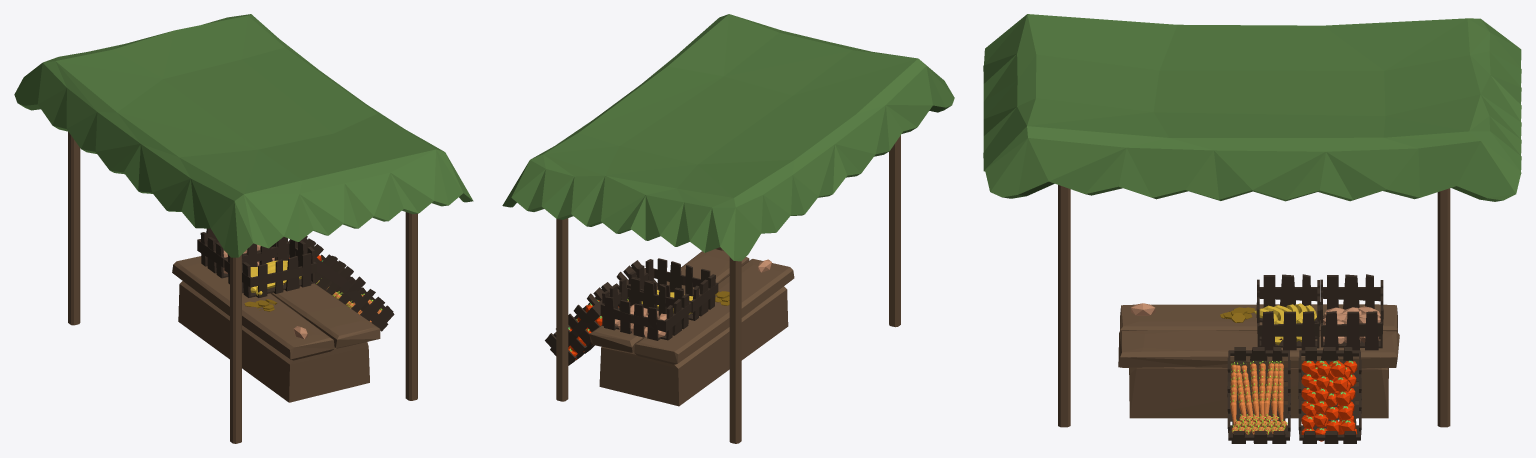
The model's file is produce.glb.
3 renders of one model, left to right at view 1: azimuth 30°, elevation 25°; view 2: azimuth 150°, elevation 25°; view 3: azimuth 270°, elevation 25°, orthographic. The views are drawn at different scales.
Parts seen in each view (by area): view 1: fvShop, Crate.003, Crate, Crate.002; view 2: fvShop, Crate.002, Crate.003, Crate.001; view 3: fvShop, Crate.002, Crate.003, Crate, Crate.001, tom.008, tom.009, tom.007, tom.006.
Boxes of the visible parts, left/top/right/bottom form: fvShop: left=14, top=14, right=473, bottom=443; Crate.003: left=224, top=237, right=316, bottom=297; Crate: left=315, top=255, right=394, bottom=331; Crate.002: left=197, top=228, right=288, bottom=278; fvShop: left=502, top=14, right=954, bottom=443; Crate.002: left=600, top=277, right=691, bottom=340; Crate.003: left=627, top=258, right=718, bottom=320; Crate.001: left=545, top=282, right=619, bottom=365; fvShop: left=983, top=14, right=1521, bottom=427; Crate.002: left=1320, top=274, right=1383, bottom=350; Crate.003: left=1256, top=274, right=1320, bottom=350; Crate: left=1227, top=346, right=1290, bottom=443; Crate.001: left=1298, top=346, right=1361, bottom=443; tom.008: left=1330, top=362, right=1355, bottom=432; tom.009: left=1313, top=364, right=1330, bottom=426; tom.007: left=1302, top=367, right=1322, bottom=429; tom.006: left=1324, top=366, right=1339, bottom=431.
Size of the model in its own units: 2.12 by 2.01 by 3.2.
